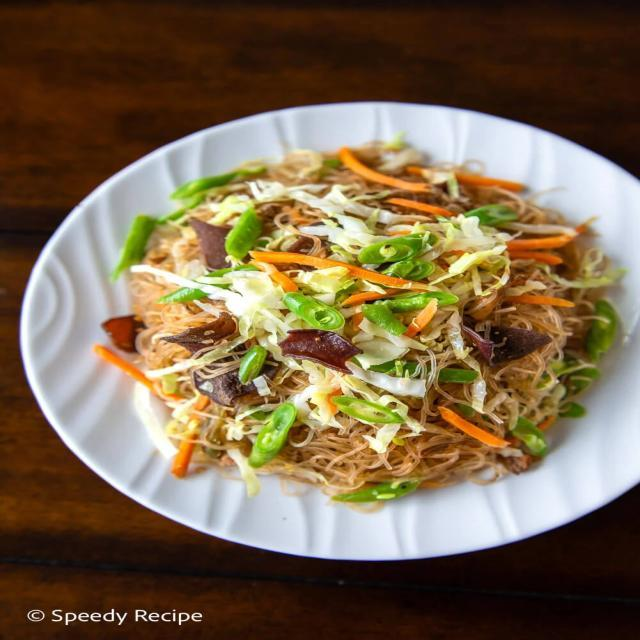pancit bihon: (96, 143, 622, 512)
